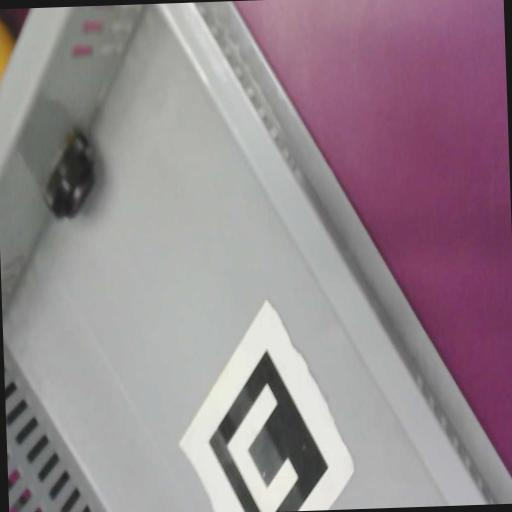QR: (176, 297, 359, 512)
